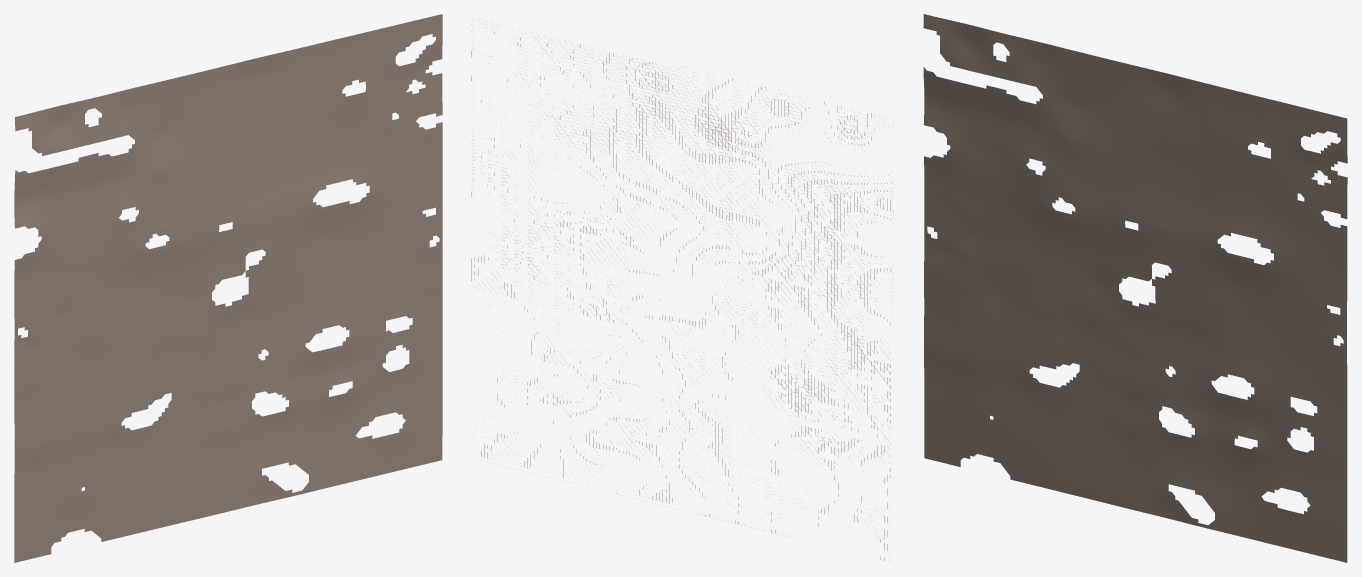
3 views of the same model, side by side, from view 1: azimuth 30°, elevation 25°; view 2: azimuth 150°, elevation 25°; view 3: azimuth 330°, elevation 25° (orthographic).
Visible parts, largest first — view 1: world; view 2: world; view 3: world.
Boxes of the visible parts, box(x1,y1,x2,y2) form: world: box(14, 14, 442, 562); world: box(471, 19, 893, 560); world: box(923, 14, 1347, 562).
Size of the model in its own units: 12800 by 12800 by 129.
